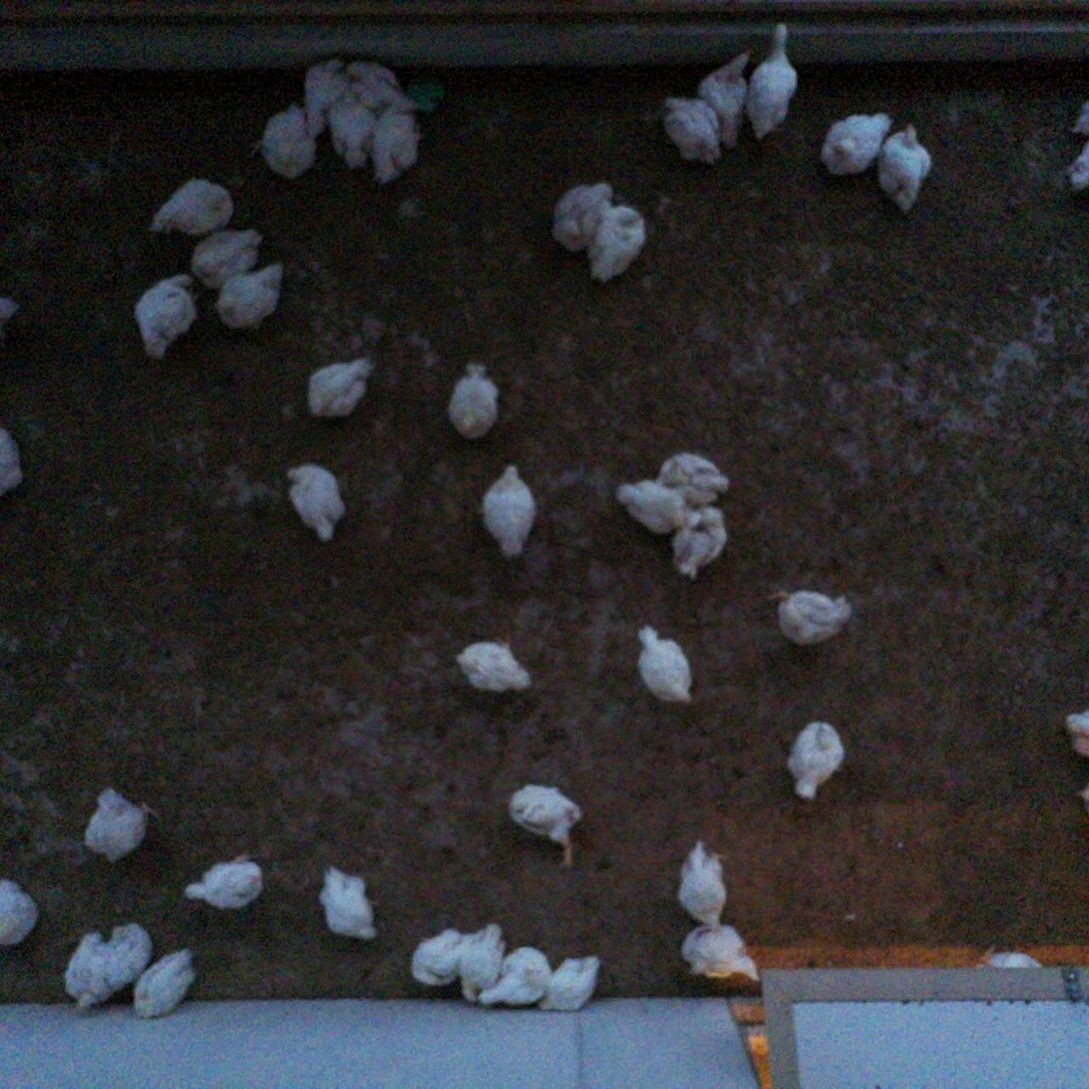chicken: (504, 780, 587, 875), (744, 19, 802, 145), (693, 49, 760, 154), (812, 106, 898, 186), (133, 270, 202, 362), (872, 118, 938, 213), (477, 459, 538, 560), (208, 258, 292, 331), (180, 843, 265, 915), (249, 96, 319, 182), (281, 462, 351, 548), (673, 837, 735, 934), (84, 786, 160, 865), (149, 173, 236, 242), (367, 88, 425, 190), (677, 919, 763, 987), (87, 925, 154, 1012), (784, 716, 847, 806), (546, 181, 620, 257), (633, 621, 696, 710), (471, 944, 553, 1012), (445, 357, 506, 447), (584, 200, 648, 285), (318, 865, 383, 948), (296, 52, 353, 144), (191, 219, 268, 287), (610, 481, 699, 539), (769, 586, 855, 646), (670, 501, 731, 583), (529, 951, 602, 1019), (656, 94, 723, 168), (453, 637, 537, 696), (306, 353, 375, 423), (456, 920, 509, 1008), (343, 54, 414, 119), (324, 88, 380, 170), (656, 451, 730, 509), (61, 925, 111, 1009), (408, 925, 471, 989), (145, 944, 197, 1021), (0, 874, 44, 946), (982, 947, 1052, 979), (0, 420, 26, 503), (1063, 138, 1089, 196), (1062, 707, 1089, 762), (1069, 95, 1089, 135)
